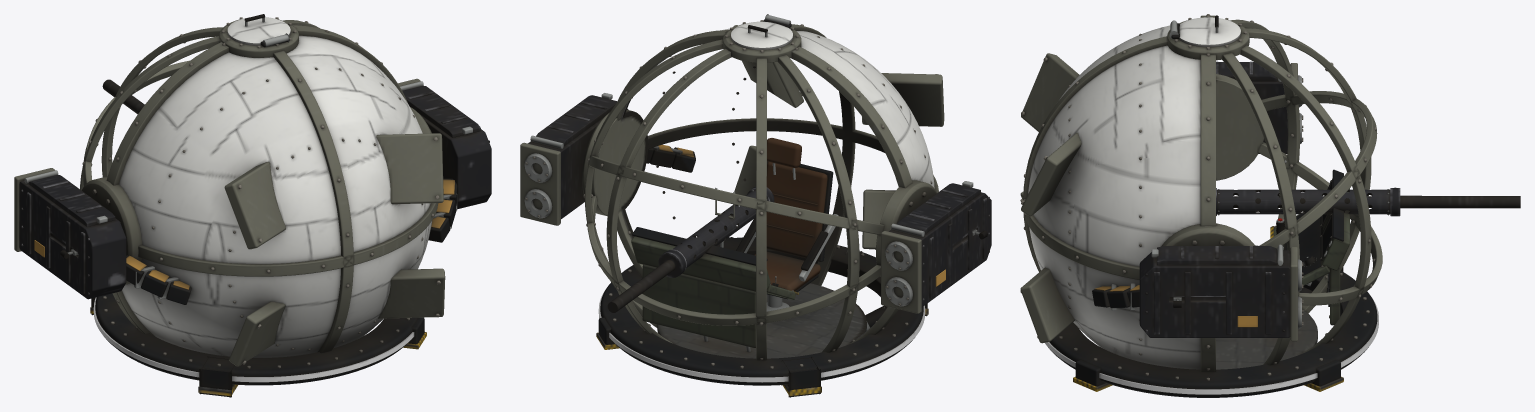
The model's file is gun_pod.gltf.
3 views of the same model, side by side, from view 1: azimuth 30°, elevation 25°; view 2: azimuth 150°, elevation 25°; view 3: azimuth 270°, elevation 25° (orthographic). The views are drawn at different scales.
Visible parts, largest first — view 1: Pod, Armour, Collar, BarrelHot; view 2: Pod, Collar, Armour, Barrel, BarrelHot; view 3: Pod, Collar, Armour, Barrel, BarrelHot.
Boxes of the visible parts, x1,y1,x2,y2 form: Pod: (14, 14, 491, 357); Armour: (224, 133, 445, 366); Collar: (90, 293, 426, 397); BarrelHot: (102, 79, 144, 114); Pod: (520, 14, 991, 360); Collar: (596, 237, 928, 397); Armour: (732, 25, 944, 249); Barrel: (658, 186, 774, 277); BarrelHot: (607, 210, 747, 312); Pod: (1023, 14, 1382, 371); Collar: (1045, 245, 1378, 397); Armour: (1020, 53, 1081, 343); Barrel: (1216, 187, 1400, 216); BarrelHot: (1233, 195, 1520, 208).
Size of the model in its own units: 2.95 by 2.27 by 2.92.
Materials: 17 (17 with a texture image).
